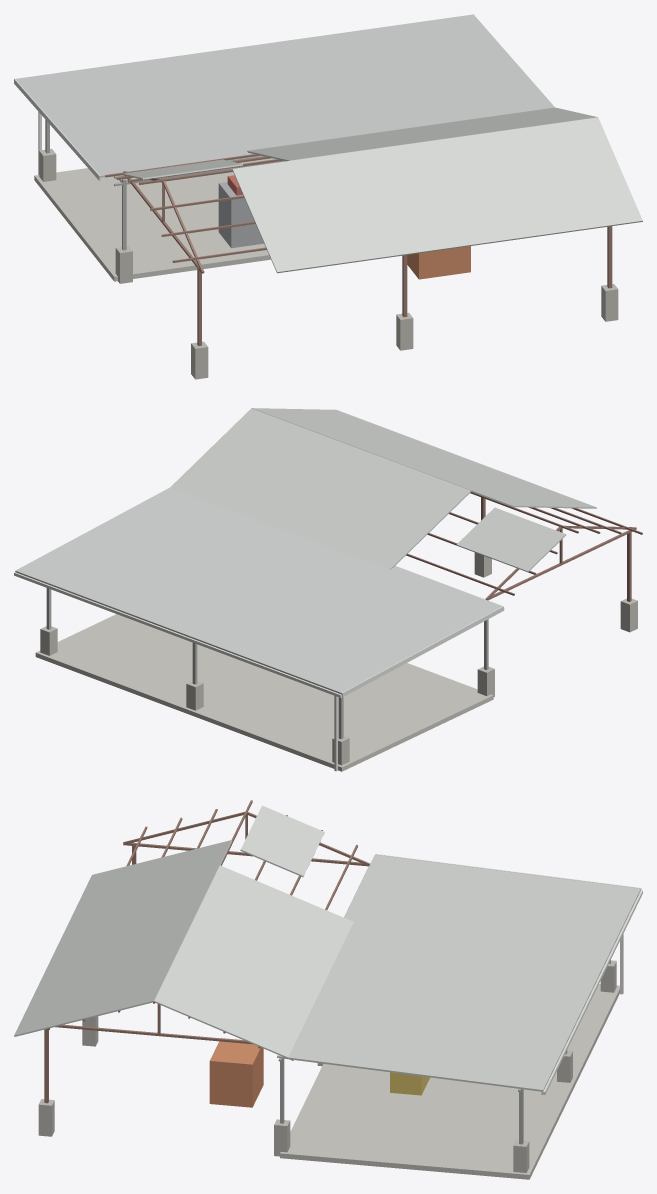
Rendered from rares_machinery.glb.
3 renders of one model, top to bottom at view 1: azimuth 30°, elevation 25°; view 2: azimuth 150°, elevation 25°; view 3: azimuth 270°, elevation 25°, orthographic. The views are drawn at different scales.
Parts seen in each view (by area): view 1: Mach_NorthRoof, Mach_SouthRoof_S, Mach_FloorSlab, Mach_SouthRoof_N1, Mach_RiceMillBody, Mach_Husker, Mach_SouthRoof_N2, Mach_NorthFascia_W, Mach_Ped_0_2, Mach_Ped_1_2, Mach_Ped_2_2, Mach_Ped_0_1 (+1 smaller); view 2: Mach_NorthRoof, Mach_FloorSlab, Mach_SouthRoof_N1, Mach_SouthRoof_S, Mach_SouthRoof_N2, Mach_NorthGutter, Mach_NorthFascia_W, Mach_GableChord_0, Mach_Ped_0_2; view 3: Mach_NorthRoof, Mach_FloorSlab, Mach_SouthRoof_N1, Mach_SouthRoof_S, Mach_SouthRoof_N2, Mach_Husker, Mach_NorthGutter, Mach_Generator, Mach_GableChord_2, Mach_Ped_2_2, Mach_Ped_2_1, Mach_GableChord_0.
Boxes of the visible parts, <box> form: Mach_NorthRoof: <box>16,14,554,177</box>; Mach_SouthRoof_S: <box>232,117,642,273</box>; Mach_FloorSlab: <box>34,158,276,281</box>; Mach_SouthRoof_N1: <box>247,107,597,161</box>; Mach_RiceMillBody: <box>218,182,263,248</box>; Mach_Husker: <box>407,246,470,279</box>; Mach_SouthRoof_N2: <box>122,159,242,179</box>; Mach_NorthFascia_W: <box>14,78,100,180</box>; Mach_Ped_0_2: <box>191,341,208,379</box>; Mach_Ped_1_2: <box>396,312,413,350</box>; Mach_Ped_2_2: <box>601,284,618,321</box>; Mach_Ped_0_1: <box>115,246,132,283</box>; Mach_NorthRoof: <box>15,487,502,694</box>; Mach_FloorSlab: <box>35,614,493,771</box>; Mach_SouthRoof_N1: <box>170,408,471,569</box>; Mach_SouthRoof_S: <box>252,408,596,508</box>; Mach_SouthRoof_N2: <box>456,507,566,571</box>; Mach_NorthGutter: <box>14,572,341,697</box>; Mach_NorthFascia_W: <box>341,606,504,697</box>; Mach_GableChord_0: <box>486,528,636,600</box>; Mach_Ped_0_2: <box>620,598,637,632</box>; Mach_NorthRoof: <box>277,854,640,1091</box>; Mach_FloorSlab: <box>280,984,619,1179</box>; Mach_SouthRoof_N1: <box>154,865,353,1060</box>; Mach_SouthRoof_S: <box>14,840,231,1036</box>; Mach_SouthRoof_N2: <box>240,805,324,876</box>; Mach_Husker: <box>209,1038,263,1107</box>; Mach_NorthGutter: <box>541,890,642,1094</box>; Mach_Generator: <box>390,1072,429,1095</box>; Mach_GableChord_2: <box>55,1024,252,1044</box>; Mach_Ped_2_2: <box>38,1099,54,1136</box>; Mach_Ped_2_1: <box>274,1119,290,1156</box>; Mach_GableChord_0: <box>123,842,369,866</box>.
Bounding box in the file's own units: 15.23 × 4.44 × 16.54.
